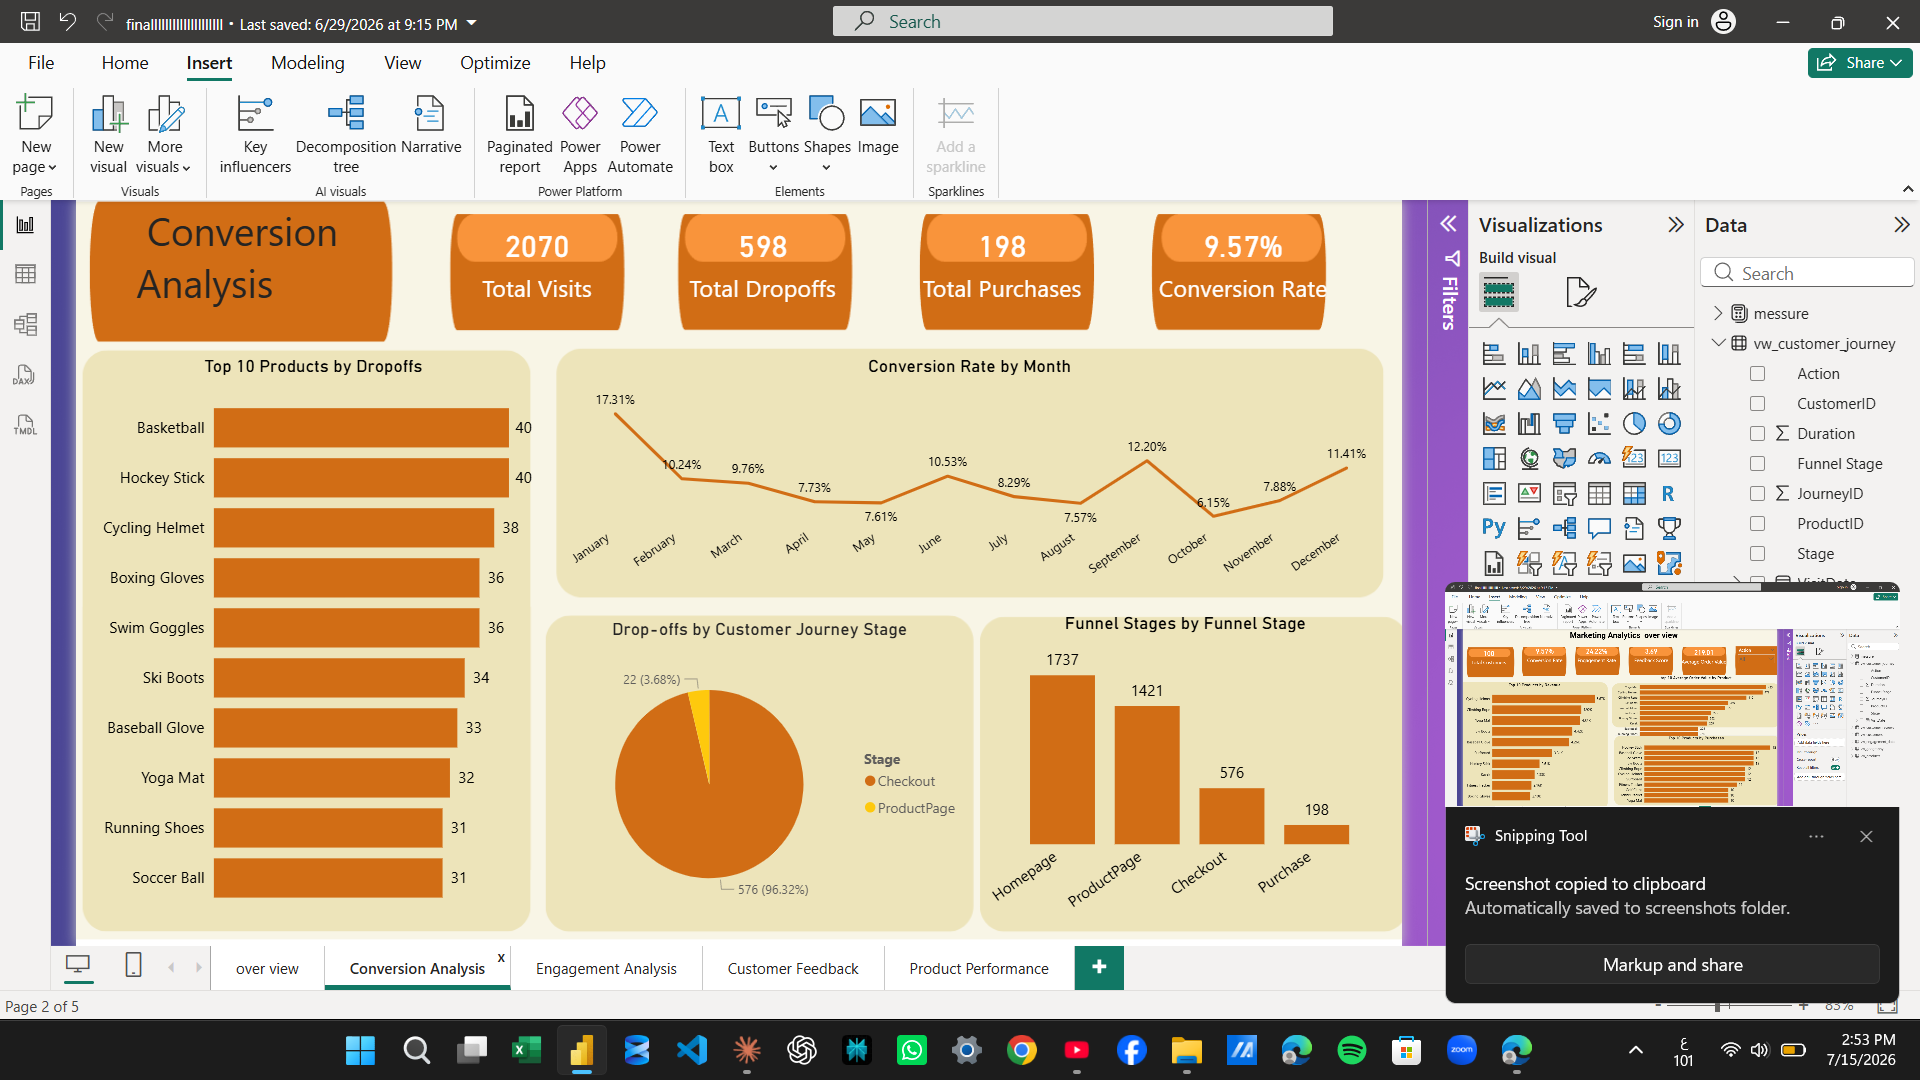

Layout of this report page (visuals, bound fields, positions):
{"tool":"powerbi","page":{"name":"Conversion Analysis","canvas":[1280,720],"ordinal":1},"visuals":[{"type":"card","fields":{"Values":["messure.Total Purchases"]},"box":[802.3,0,183.4,117],"z":0},{"type":"card","fields":{"Values":["messure.Total Visits"]},"box":[360.7,0,168.9,117],"z":1000},{"type":"card","fields":{"Values":["messure.Conversion Rate"]},"box":[1030.3,0,193,117],"z":2000},{"type":"card","fields":{"Values":["messure.Total Dropoffs"]},"box":[576.7,0,172.5,117],"z":3000},{"type":"barChart","title":"Top 10 Products by Dropoffs","fields":{"Category":["vw_products.ProductName"],"Y":["messure.Total Dropoffs"]},"box":[13.3,149.6,431.9,548.9],"z":4000},{"type":"clusteredColumnChart","fields":{"Y":["messure.Funnel Stages"],"Category":["vw_customer_journey.Funnel Stage"]},"box":[871.8,398.6,397.2,309.9],"z":5000},{"type":"lineChart","fields":{"Y":["messure.Conversion Rate"],"Category":["vw_customer_journey.VisitDate.Variation.Date Hierarchy.Month"]},"box":[468.1,149.6,789,234],"z":6000},{"type":"pieChart","title":"Drop-offs by Customer Journey Stage","fields":{"Category":["vw_customer_journey.Stage"],"Y":["messure.Total Dropoffs"]},"box":[457.2,404.2,405.4,300.4],"z":7000},{"type":"textbox","box":[12.7,0,308.5,136.6],"z":8000}]}

Visuals, with their boxes on the page's 1280x720 design canvas (x1, y1, x2, y2). These are canvas units, not pixel positions in the 1920x1080 screenshot, which may show the page scaled, cropped or inside an application window:
card - messure.Total Purchases: region(802, 0, 986, 117)
card - messure.Total Visits: region(361, 0, 530, 117)
card - messure.Conversion Rate: region(1030, 0, 1223, 117)
card - messure.Total Dropoffs: region(577, 0, 749, 117)
"Top 10 Products by Dropoffs" barChart: region(13, 150, 445, 698)
clusteredColumnChart - messure.Funnel Stages x vw_customer_journey.Funnel Stage: region(872, 399, 1269, 708)
lineChart - messure.Conversion Rate x vw_customer_journey.VisitDate.Variation.Date Hierarchy.Month: region(468, 150, 1257, 384)
"Drop-offs by Customer Journey Stage" pieChart: region(457, 404, 863, 705)
textbox: region(13, 0, 321, 137)
